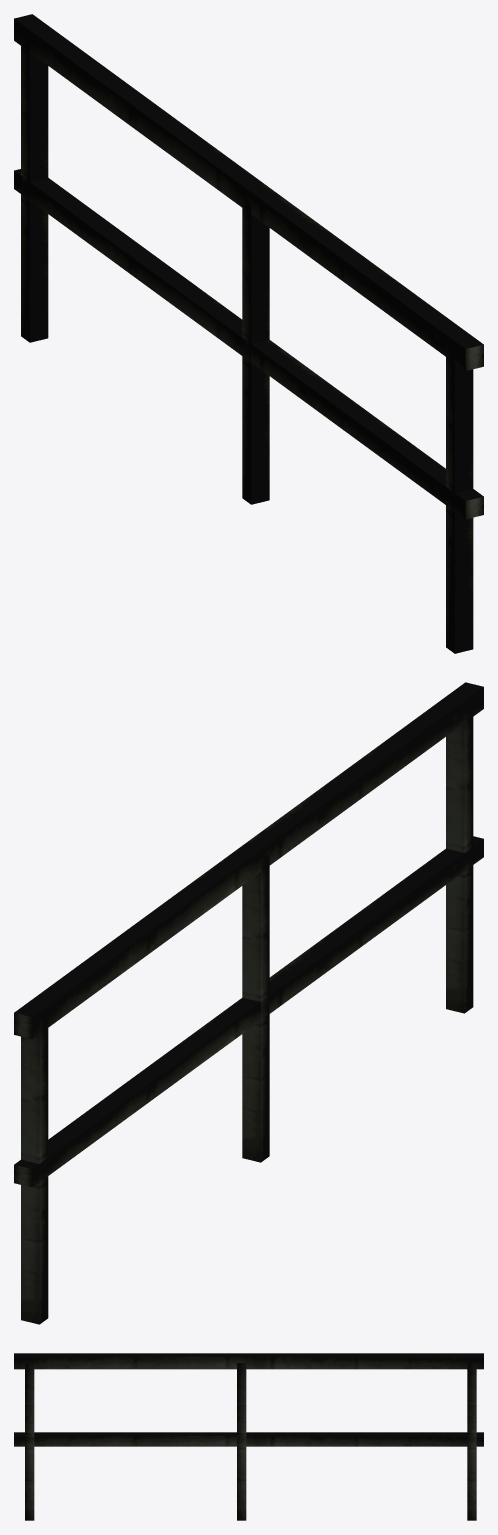
The model's file is reling.obj.
3 renders of one model, top to bottom at view 1: azimuth 30°, elevation 25°; view 2: azimuth 150°, elevation 25°; view 3: azimuth 270°, elevation 25°, orthographic. The views are drawn at different scales.
Parts seen in each view (by area): view 1: Group; view 2: Group; view 3: Group.
Part boxes in pixels (bbox=[...]): Group: bbox=[14, 14, 483, 653]; Group: bbox=[14, 682, 483, 1324]; Group: bbox=[14, 1353, 483, 1520].
Size of the model in its own units: 1.9 by 30.67 by 80.32.
